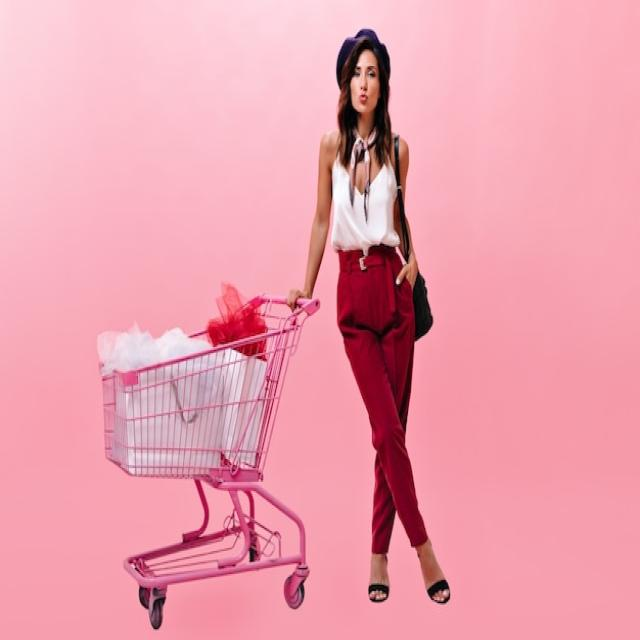Person: (286, 28, 451, 605)
